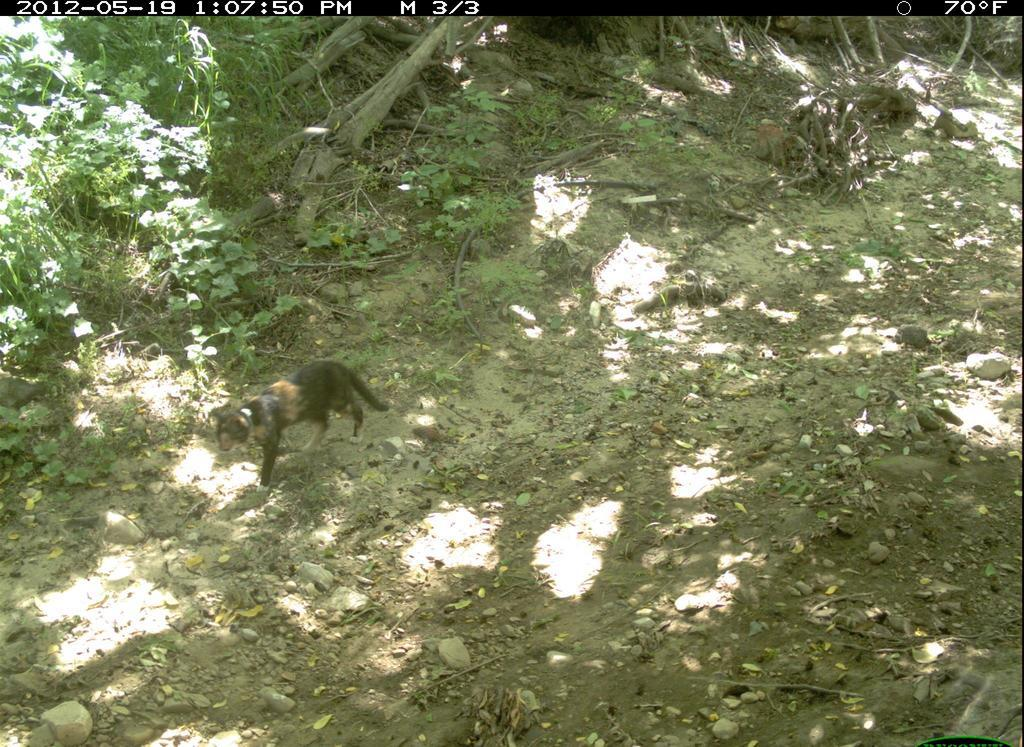cat: (203, 359, 391, 493)
